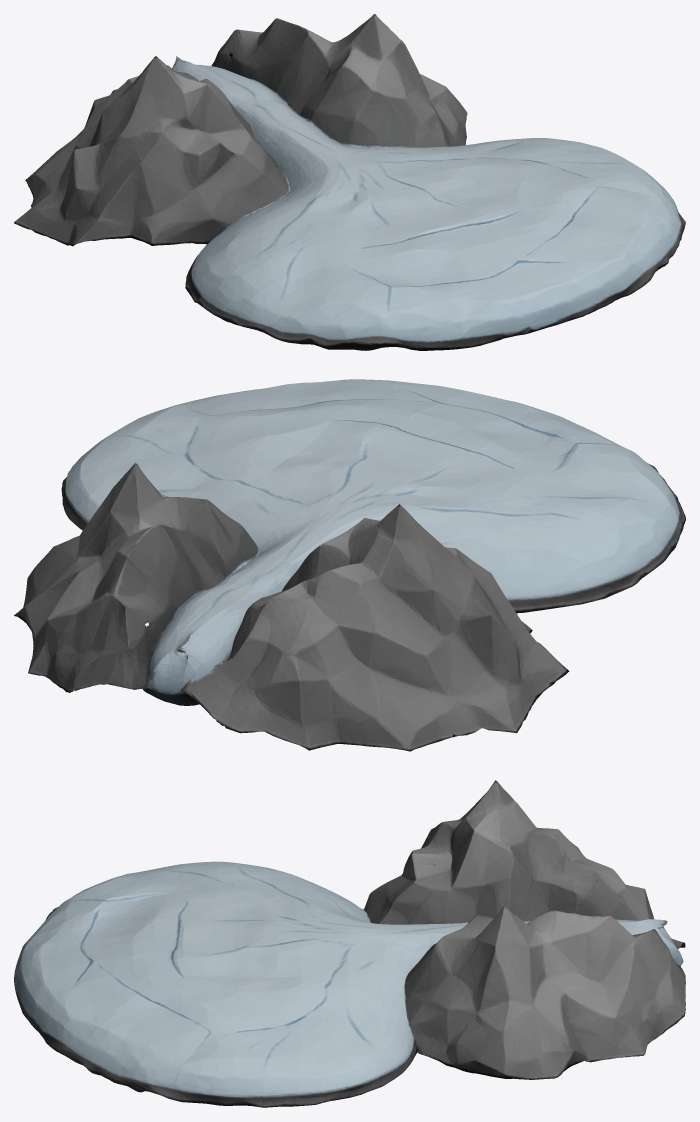
The picture shows the model from 3 angles, top to bottom: view 1: azimuth 30°, elevation 25°; view 2: azimuth 150°, elevation 25°; view 3: azimuth 270°, elevation 25°; orthographic projection. The views are drawn at different scales.
Parts seen in each view (by area): view 1: world; view 2: world; view 3: world.
Part boxes in pixels (bbox=[...]): world: bbox=[14, 14, 685, 350]; world: bbox=[14, 379, 685, 751]; world: bbox=[14, 780, 685, 1107].
Size of the model in its own units: 0.8745 by 0.2544 by 0.9999.
1 material, 1 textured.
